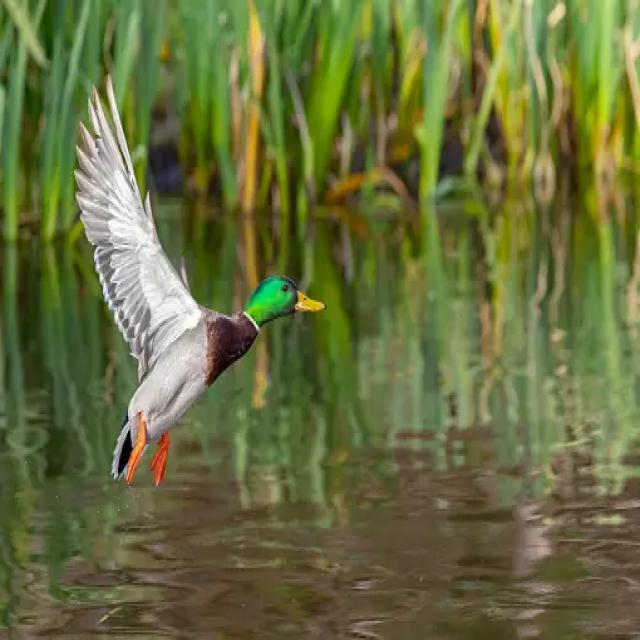ducks: (57, 63, 340, 505)
